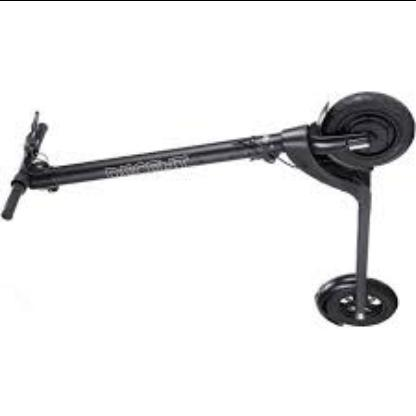bike: (1, 89, 416, 328)
